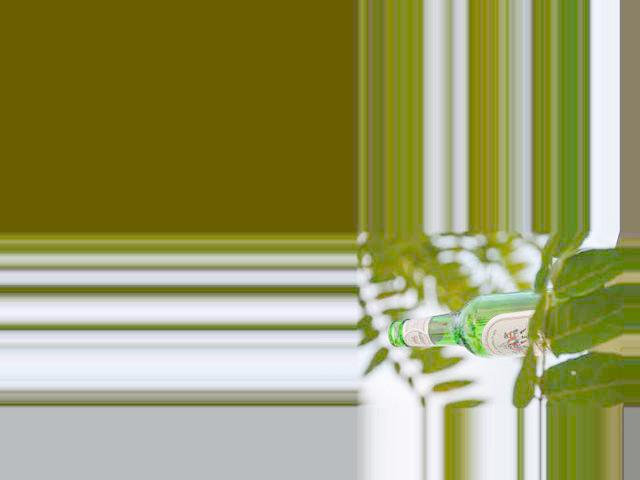beer: (388, 293, 555, 357)
